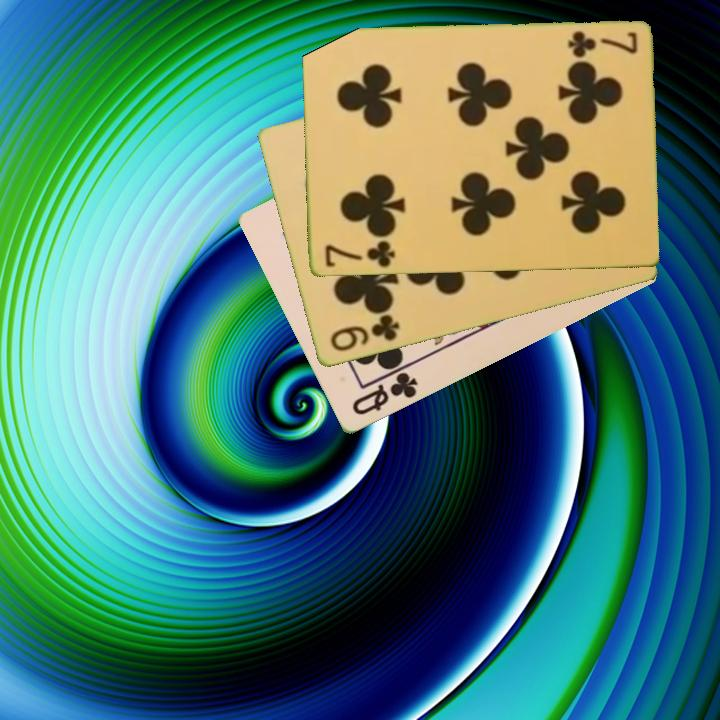7c: (321, 237, 398, 271), (563, 28, 640, 60)
9c: (326, 311, 402, 355)
Qc: (348, 362, 421, 419)
